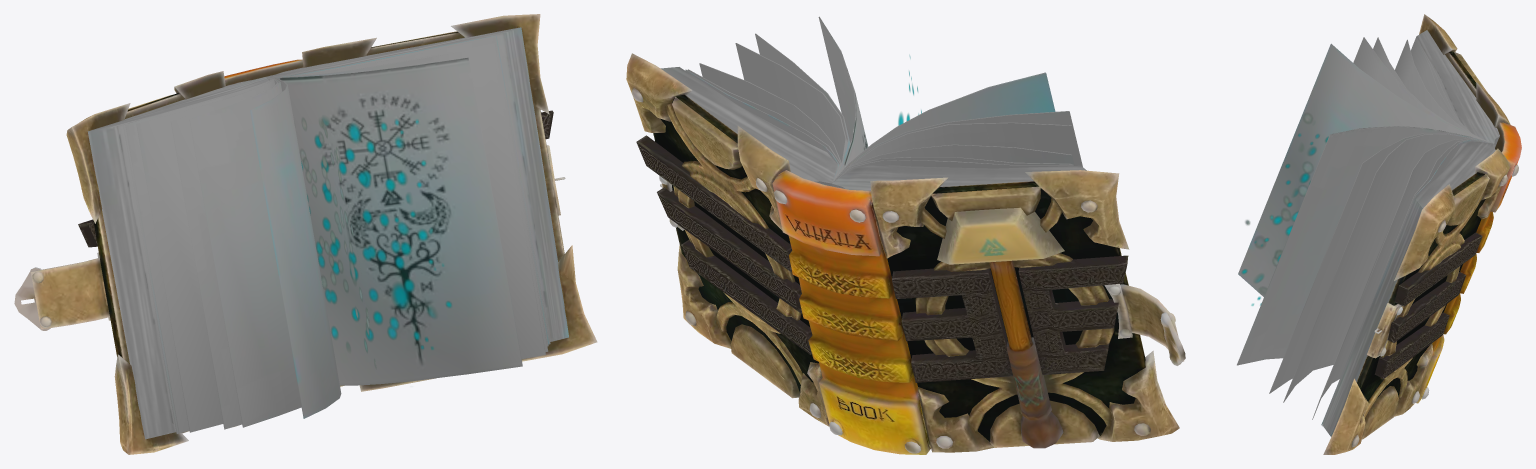
Rendered from book-92fb9586.glb.
3 renders of one model, left to right at view 1: azimuth 30°, elevation 25°; view 2: azimuth 150°, elevation 25°; view 3: azimuth 270°, elevation 25°, orthographic. The views are drawn at different scales.
Visible parts, largest first — view 1: Object_3, Object_2; view 2: Object_2, Object_3; view 3: Object_3, Object_2.
Boxes of the visible parts, x1=… form: Object_3: x1=87, y1=27, x2=568, y2=439; Object_2: x1=14, y1=14, x2=597, y2=454; Object_2: x1=626, y1=53, x2=1185, y2=454; Object_3: x1=660, y1=16, x2=1086, y2=190; Object_3: x1=1237, y1=30, x2=1499, y2=436; Object_2: x1=1323, y1=14, x2=1521, y2=454.
Size of the model in its own units: 456 by 292 by 267.
Materials: 2 (2 with a texture image).
